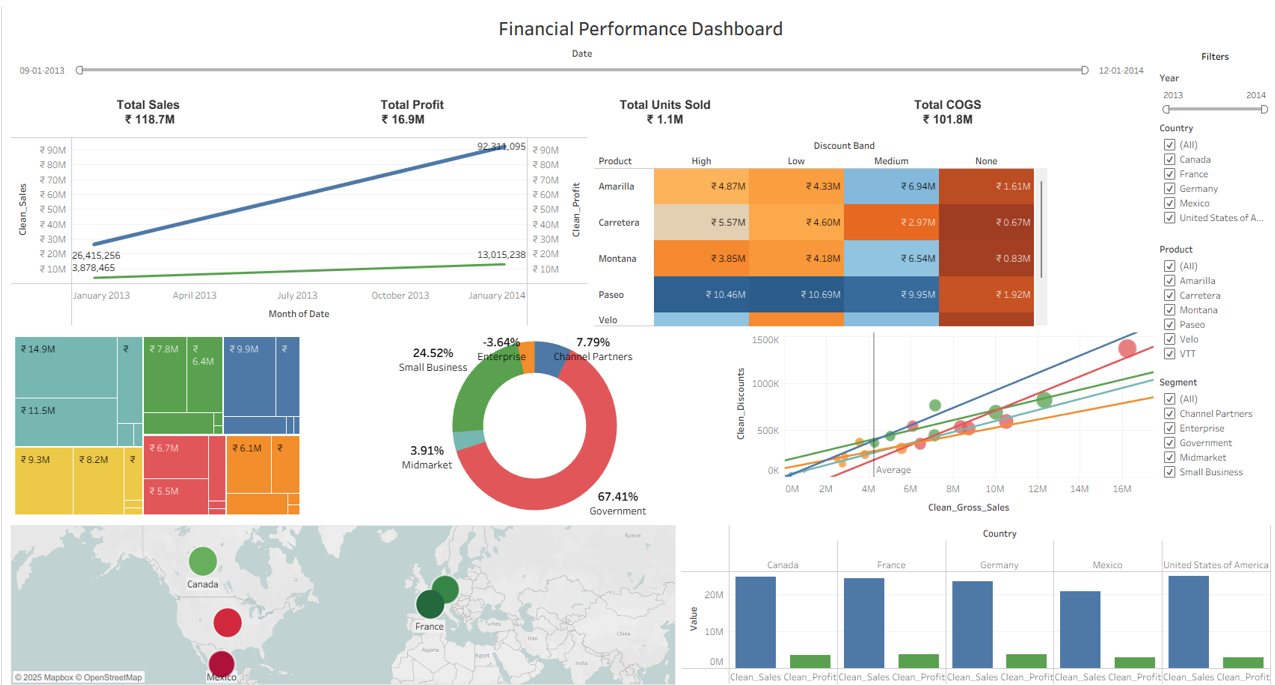

This screenshot's page, from the dashboard's own definition file:
{"tool":"tableau","page":{"name":"Financial Performance Dashboard","canvas":[1000,1000],"units":"permille","ordinal":0},"visuals":[{"type":"title","box":[4.7,8.9,990.6,45.8]},{"type":"filter","title":" Total Sales (KPI Sales)","param":"[federated.0erkolx1seiyk71fcbb2a0yc6wl1].[none:Date:qk]","box":[4.7,54.7,898.9,58.5]},{"type":"text","box":[903.6,54.7,91.8,35.3]},{"type":"filter","title":" Total Sales (KPI Sales)","param":"[federated.0erkolx1seiyk71fcbb2a0yc6wl1].[none:Year:qk]","box":[903.6,90,91.8,72.9]},{"type":"worksheet","title":" Total Sales (KPI Sales)","mark":"Automatic","box":[4.7,113.2,282.4,73.2]},{"type":"worksheet","title":" Total Profit (KPI Profit)","mark":"Automatic","box":[287.1,113.2,188.9,73.2]},{"type":"worksheet","title":"Total Units Sold (KPI Units)","mark":"Automatic","box":[476,113.2,232.6,73.2]},{"type":"worksheet","title":"Total COGS (KPI COGS)","mark":"Automatic","box":[708.6,113.2,195,73.2]},{"type":"filter","title":" Total Sales (KPI Sales)","param":"[federated.0erkolx1seiyk71fcbb2a0yc6wl1].[none:Country:nk]","box":[903.6,162.9,91.8,176.7]},{"type":"worksheet","title":"Sales Trend","mark":"Line","rows":["Calculation_0746308258611205","Calculation_0746308258811911"],"cols":["Date"],"box":[4.7,186.4,456.4,283.5]},{"type":"worksheet","title":"Product Heat Map","mark":"Square","rows":["Product "],"cols":["Discount Band "],"box":[461.1,186.4,442.5,283.5]},{"type":"filter","title":" Total Sales (KPI Sales)","param":"[federated.0erkolx1seiyk71fcbb2a0yc6wl1].[none:Product :nk]","box":[903.6,339.6,91.8,192.8]},{"type":"worksheet","title":"Product Treemap","mark":"Automatic","box":[4.7,469.9,262.7,280.1]},{"type":"worksheet","title":"Profit Margin by Segment ","mark":"Pie","rows":["Calculation_0169340128296961","Calculation_0169340128296961"],"box":[267.4,469.9,299,280.1]},{"type":"worksheet","title":"Sales vs Discounts","mark":"Circle","rows":["Calculation_0746308258516996"],"cols":["Calculation_0746308258410499"],"box":[566.4,469.9,337.2,280.1]},{"type":"filter","title":" Total Sales (KPI Sales)","param":"[federated.0erkolx1seiyk71fcbb2a0yc6wl1].[none:Segment:nk]","box":[903.6,532.4,91.8,217.6]},{"type":"worksheet","title":"Geographic Sales Map","mark":"Automatic","box":[4.7,750,524.9,241.1]},{"type":"worksheet","title":"Sales by Country","mark":"Automatic","cols":["Country"],"box":[529.5,750,465.8,241.1]}]}

Visuals, with their boxes on the dashboard's canvas, which has no fixed pixel size, in thousandths of its width and height (x1, y1, x2, y2). These are canvas units, not pixel positions in the 1275x685 screenshot, which may show the page scaled, cropped or inside an application window:
title: (left=5, top=9, right=995, bottom=55)
" Total Sales (KPI Sales)" filter: (left=5, top=55, right=904, bottom=113)
text: (left=904, top=55, right=995, bottom=90)
" Total Sales (KPI Sales)" filter: (left=904, top=90, right=995, bottom=163)
" Total Sales (KPI Sales)" worksheet: (left=5, top=113, right=287, bottom=186)
" Total Profit (KPI Profit)" worksheet: (left=287, top=113, right=476, bottom=186)
"Total Units Sold (KPI Units)" worksheet: (left=476, top=113, right=709, bottom=186)
"Total COGS (KPI COGS)" worksheet: (left=709, top=113, right=904, bottom=186)
" Total Sales (KPI Sales)" filter: (left=904, top=163, right=995, bottom=340)
"Sales Trend" worksheet (Line marks): (left=5, top=186, right=461, bottom=470)
"Product Heat Map" worksheet (Square marks): (left=461, top=186, right=904, bottom=470)
" Total Sales (KPI Sales)" filter: (left=904, top=340, right=995, bottom=532)
"Product Treemap" worksheet: (left=5, top=470, right=267, bottom=750)
"Profit Margin by Segment " worksheet (Pie marks): (left=267, top=470, right=566, bottom=750)
"Sales vs Discounts" worksheet (Circle marks): (left=566, top=470, right=904, bottom=750)
" Total Sales (KPI Sales)" filter: (left=904, top=532, right=995, bottom=750)
"Geographic Sales Map" worksheet: (left=5, top=750, right=530, bottom=991)
"Sales by Country" worksheet: (left=530, top=750, right=995, bottom=991)
